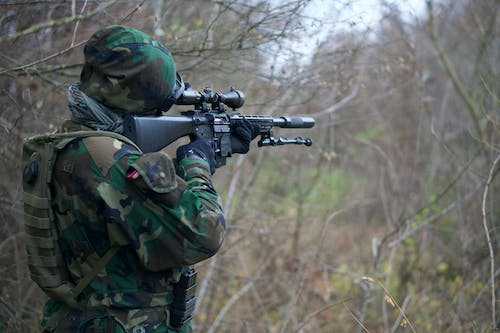gun: (119, 85, 318, 169)
